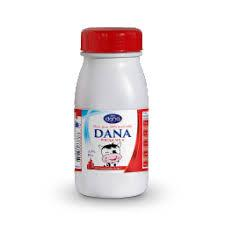Milk bottle: (59, 21, 156, 206)
